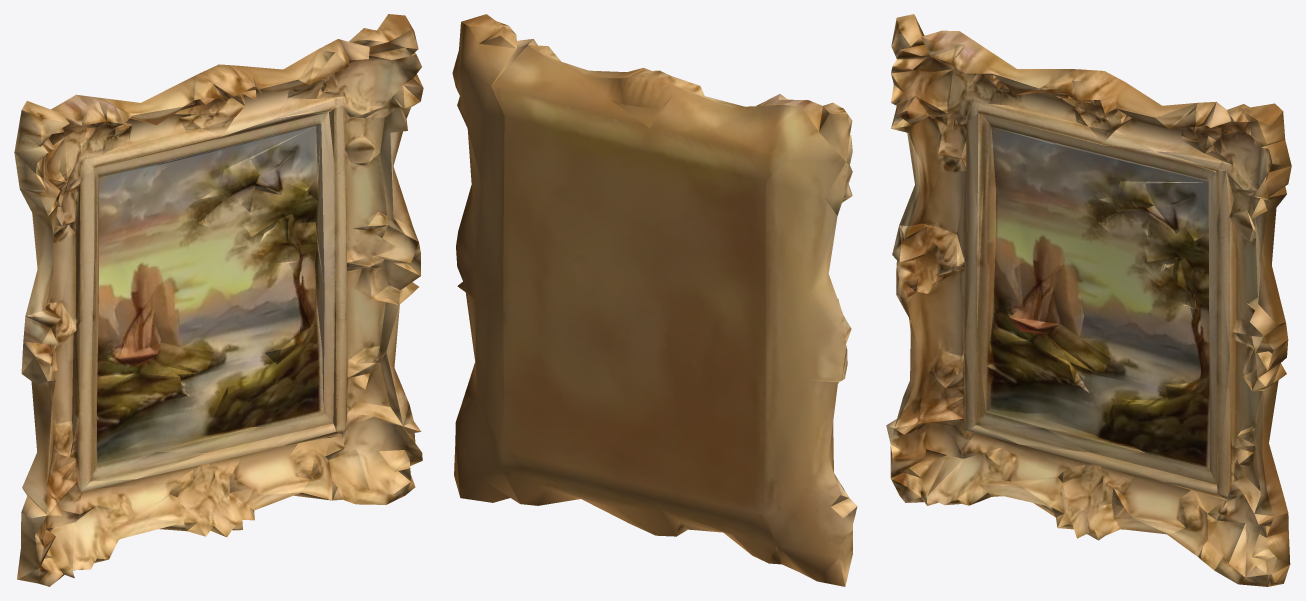
File: paintingFrame.glb
3 renders of one model, left to right at view 1: azimuth 30°, elevation 25°; view 2: azimuth 150°, elevation 25°; view 3: azimuth 330°, elevation 25°, orthographic.
Parts seen in each view (by area): view 1: model; view 2: model; view 3: model.
Part boxes in pixels (<box>): model: <box>14,14,423,586</box>; model: <box>452,14,857,586</box>; model: <box>886,14,1291,586</box>.
Size of the model in its own units: 1.65 by 1.9 by 0.2672.
Materials: 1 (1 with a texture image).
